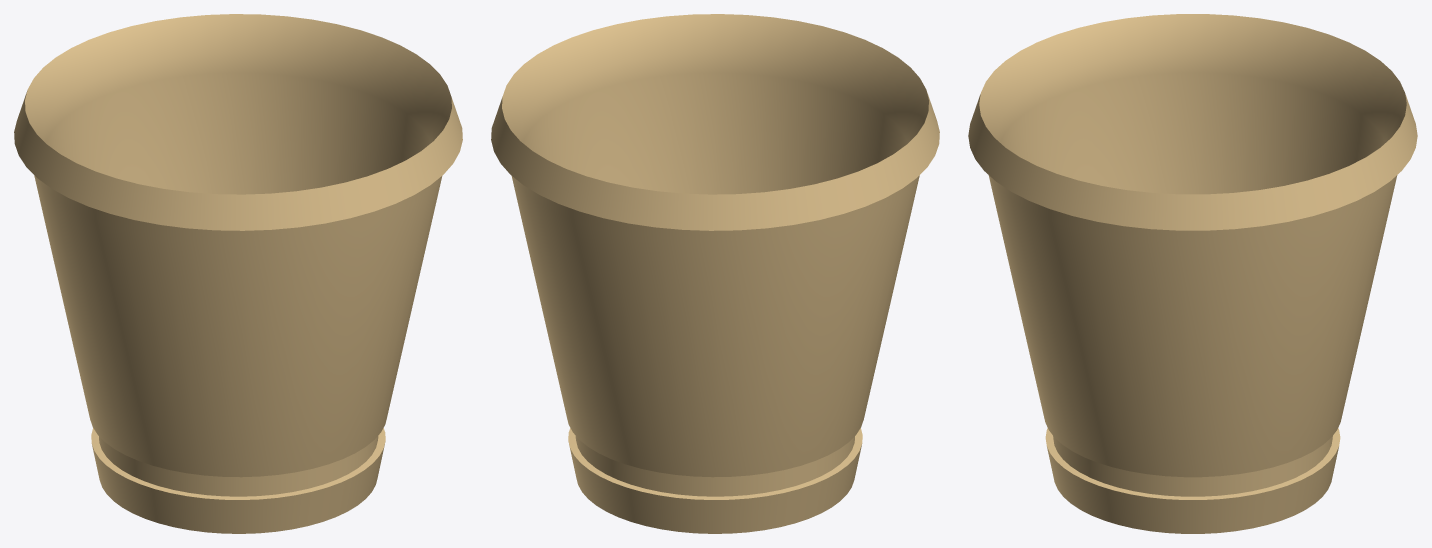
File: Cup.fbx
The picture shows the model from 3 angles, left to right: view 1: azimuth 30°, elevation 25°; view 2: azimuth 150°, elevation 25°; view 3: azimuth 270°, elevation 25°; orthographic projection.
Visible parts, largest first — view 1: Cup; view 2: Cup; view 3: Cup.
Boxes of the visible parts, x1=… form: Cup: x1=14, y1=14, x2=462, y2=533; Cup: x1=491, y1=14, x2=939, y2=533; Cup: x1=968, y1=14, x2=1417, y2=533.
Bounding box in the file's own units: 20.43 × 18.65 × 20.47.
